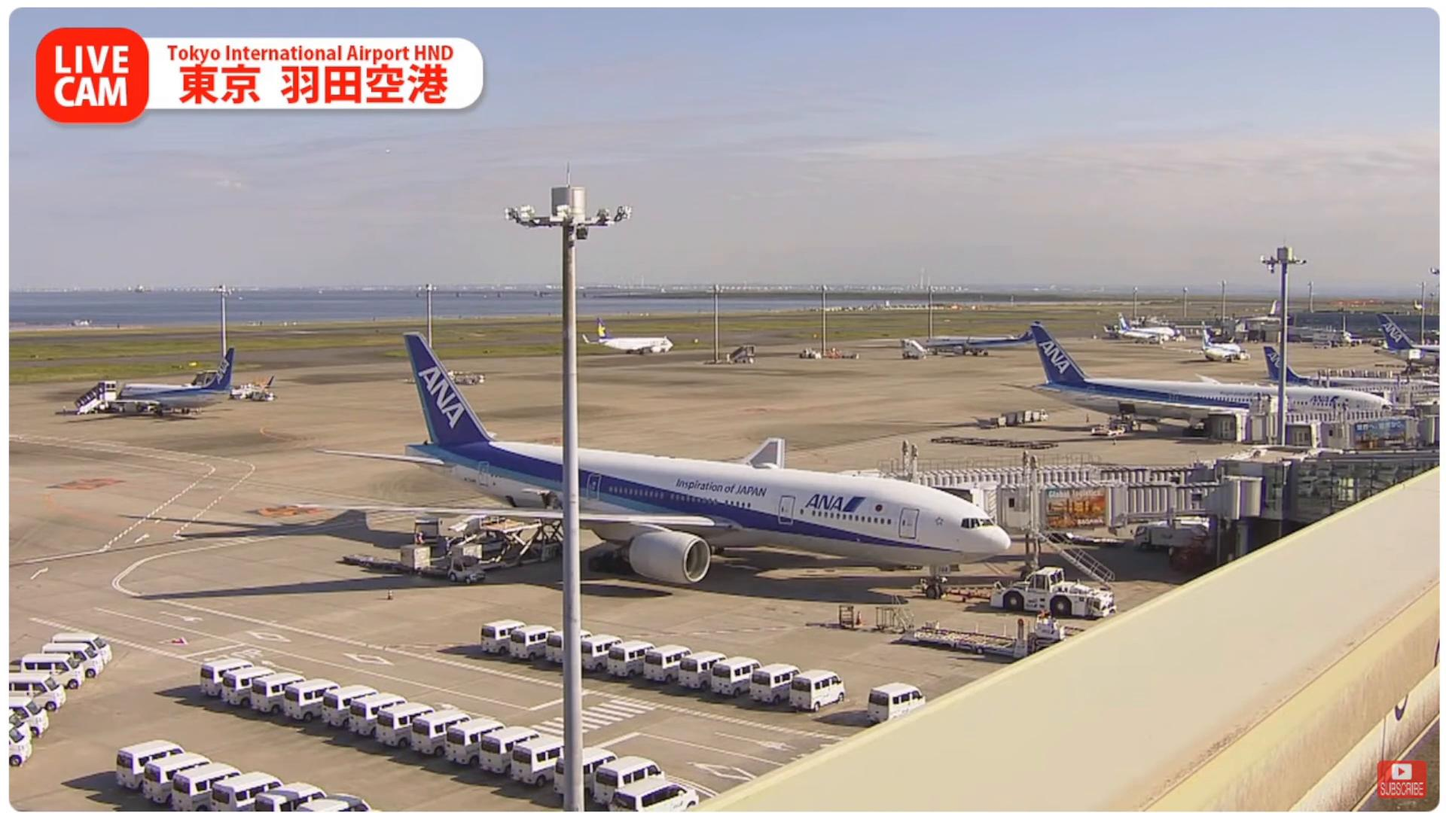APS: (987, 565, 1121, 616)
Aerobridge: (956, 480, 1243, 535), (885, 461, 1213, 481)
Airplane: (290, 330, 1014, 584)
Baggage truck: (407, 507, 479, 551)
Dolly: (314, 555, 453, 575)
JCPL: (425, 524, 556, 579), (889, 626, 1072, 661)
Skyloader: (432, 512, 553, 556)
Tractor: (442, 553, 489, 585)
Window: (1270, 448, 1442, 536)
